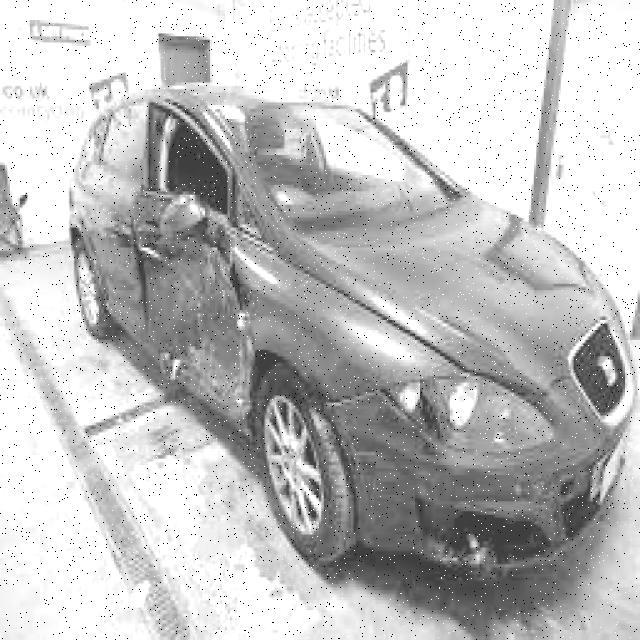car damage: (135, 105, 251, 427)
